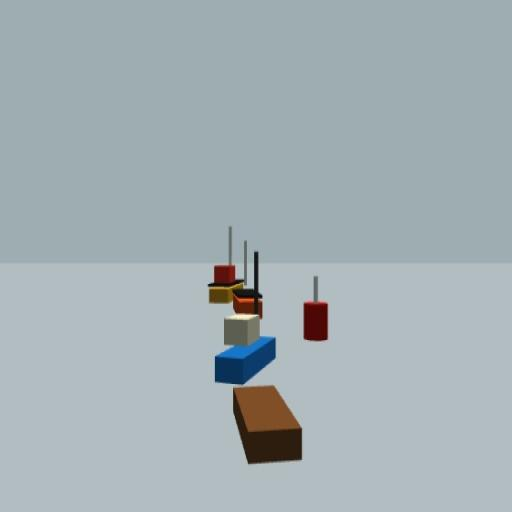debris_container: (231, 385, 305, 462)
fishing_boat: (217, 251, 275, 386)
floating_obstacle: (304, 274, 330, 341)
vessel: (206, 226, 241, 303), (232, 238, 263, 317)
